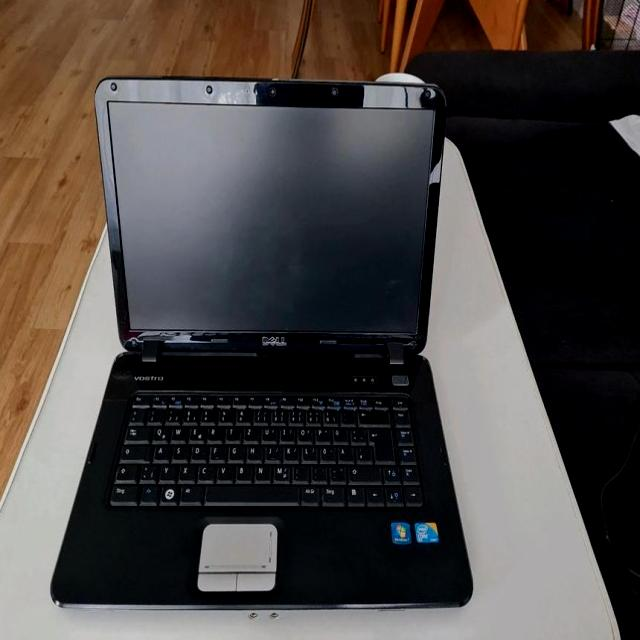0: (305, 407, 320, 423)
1: (145, 405, 163, 422)
2: (163, 405, 180, 422)
3: (181, 404, 197, 422)
4: (199, 404, 215, 422)
5: (216, 405, 232, 423)
6: (234, 406, 250, 422)
7: (252, 406, 269, 422)
8: (270, 407, 286, 422)
9: (287, 406, 303, 423)
a: (151, 441, 168, 459)
accent: (339, 407, 354, 424)
ae: (336, 442, 352, 461)
alt-left: (177, 481, 201, 502)
altgr-right: (299, 481, 317, 502)
b: (234, 460, 251, 479)
c: (196, 460, 214, 480)
caret: (126, 404, 144, 421)
comma: (290, 461, 307, 481)
d: (189, 441, 206, 459)
del: (356, 407, 388, 423)
e: (187, 423, 204, 441)
enter: (364, 423, 392, 461)
f: (207, 440, 225, 459)
g: (227, 441, 243, 459)
h: (245, 441, 261, 459)
hash: (354, 442, 370, 461)
i: (278, 424, 294, 441)
j: (263, 441, 280, 459)
k: (282, 441, 298, 459)
keyboard: (103, 390, 431, 512)
l: (300, 441, 316, 460)
less: (136, 460, 156, 480)
m: (272, 461, 288, 479)
minus: (328, 461, 344, 481)
n: (253, 461, 269, 479)
o: (295, 424, 311, 441)
oe: (318, 442, 334, 460)
p: (313, 424, 329, 442)
plus: (348, 424, 364, 443)
point: (309, 461, 325, 480)
q: (150, 424, 168, 441)
r: (205, 424, 222, 440)
s: (170, 440, 187, 459)
shift-left: (112, 460, 136, 479)
shift-lock: (117, 440, 151, 458)
shift-right: (346, 461, 380, 481)
space: (202, 481, 298, 502)
ss: (321, 406, 337, 423)
strg-left: (106, 479, 138, 502)
strg-right: (319, 481, 343, 504)
t: (223, 424, 239, 440)
tab: (121, 423, 149, 439)
u: (259, 424, 275, 441)
ue: (330, 424, 346, 442)
v: (215, 460, 232, 479)
w: (168, 423, 185, 440)
x: (177, 460, 193, 479)
y: (157, 460, 175, 479)
z: (242, 423, 258, 441)
